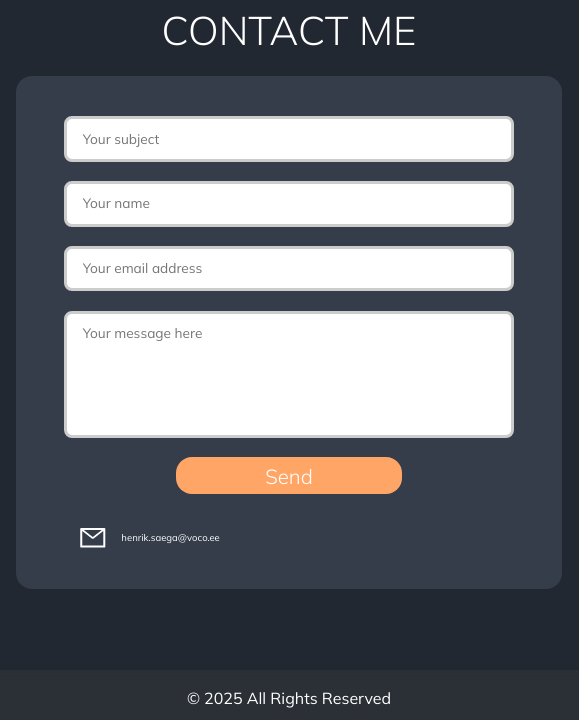
Test: Contact form submit › sends message successfully with valid email
Type "Test Pealkiri" into the field with placeholder "Your subject".
click(289, 139); type("Test Pealkiri")  # box [64,116,514,162]
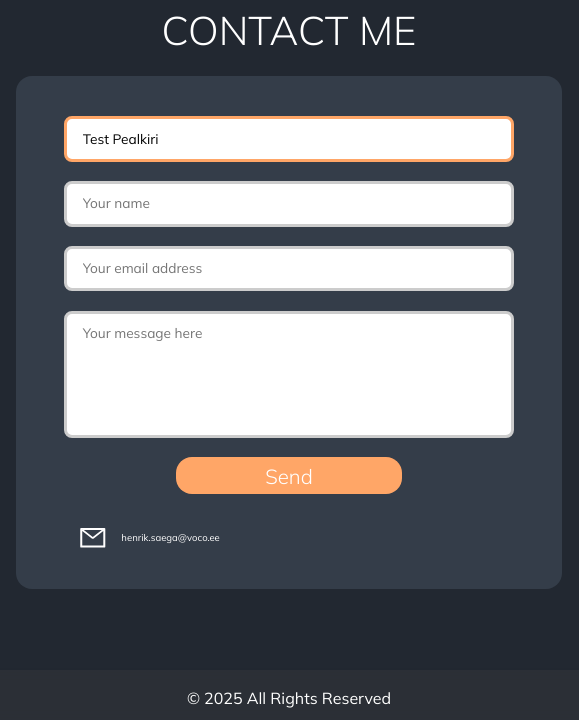
Type "Henrik Saega" into the field with placeholder "Your name".
click(289, 204); type("Henrik Saega")  # box [64,181,514,227]
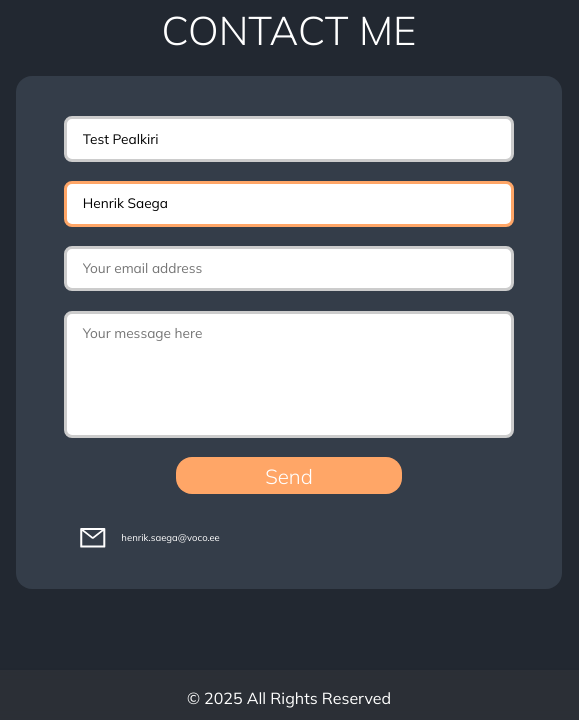
Type "henrik@example.ee" into the field with placeholder "Your email address".
click(289, 269); type("henrik@example.ee")  # box [64,246,514,291]
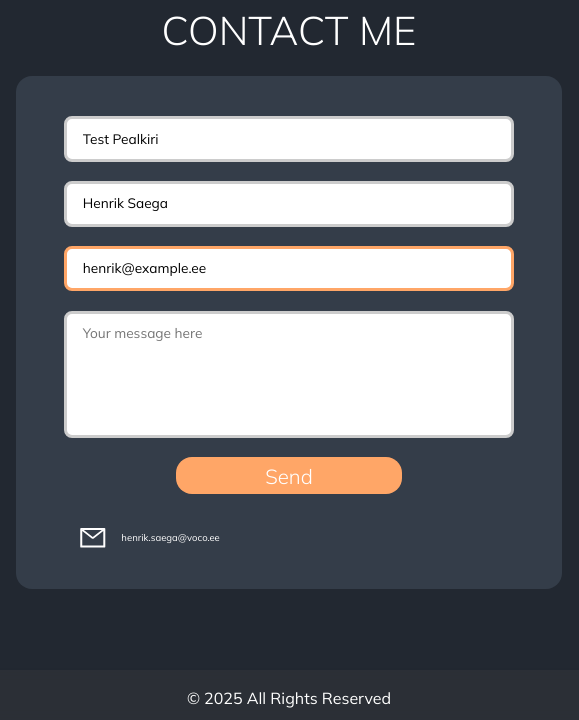
Type "Test sõnum" into the text box with placeholder "Your message here".
click(289, 374); type("Test sõnum")  # box [64,311,514,438]
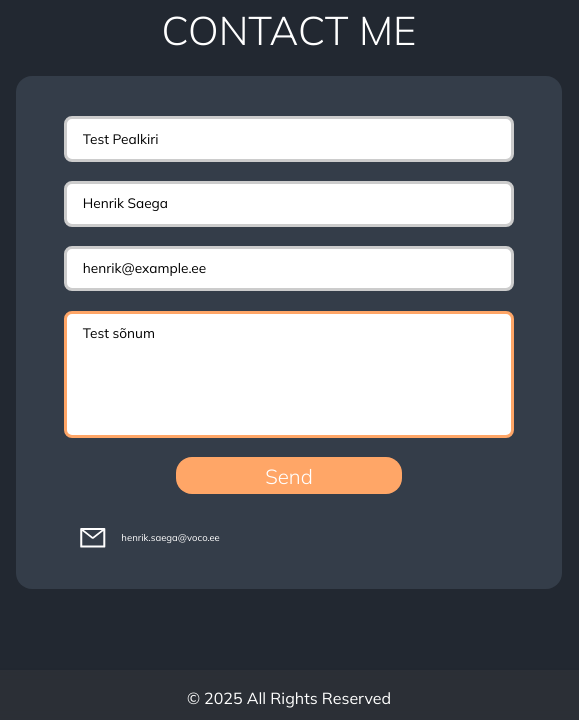
Click the button "Send".
click(289, 476)  # box [176,457,402,494]
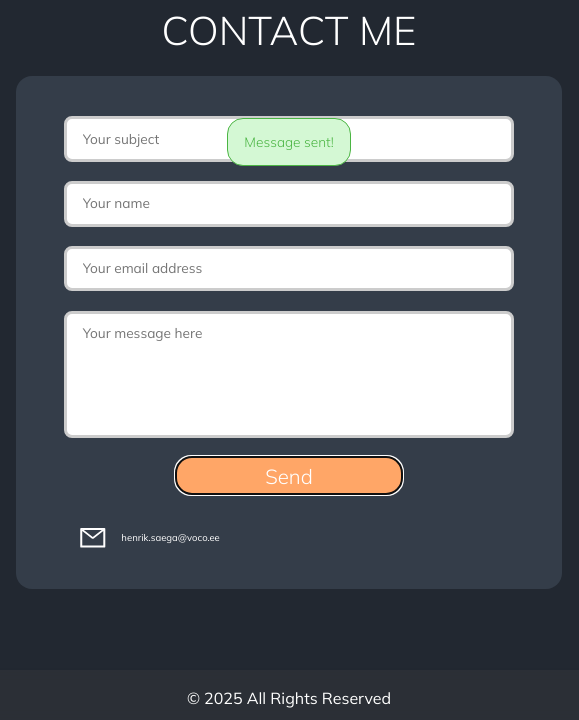
Expected: the text "Message sent!" is shown, [227,118,351,166]
